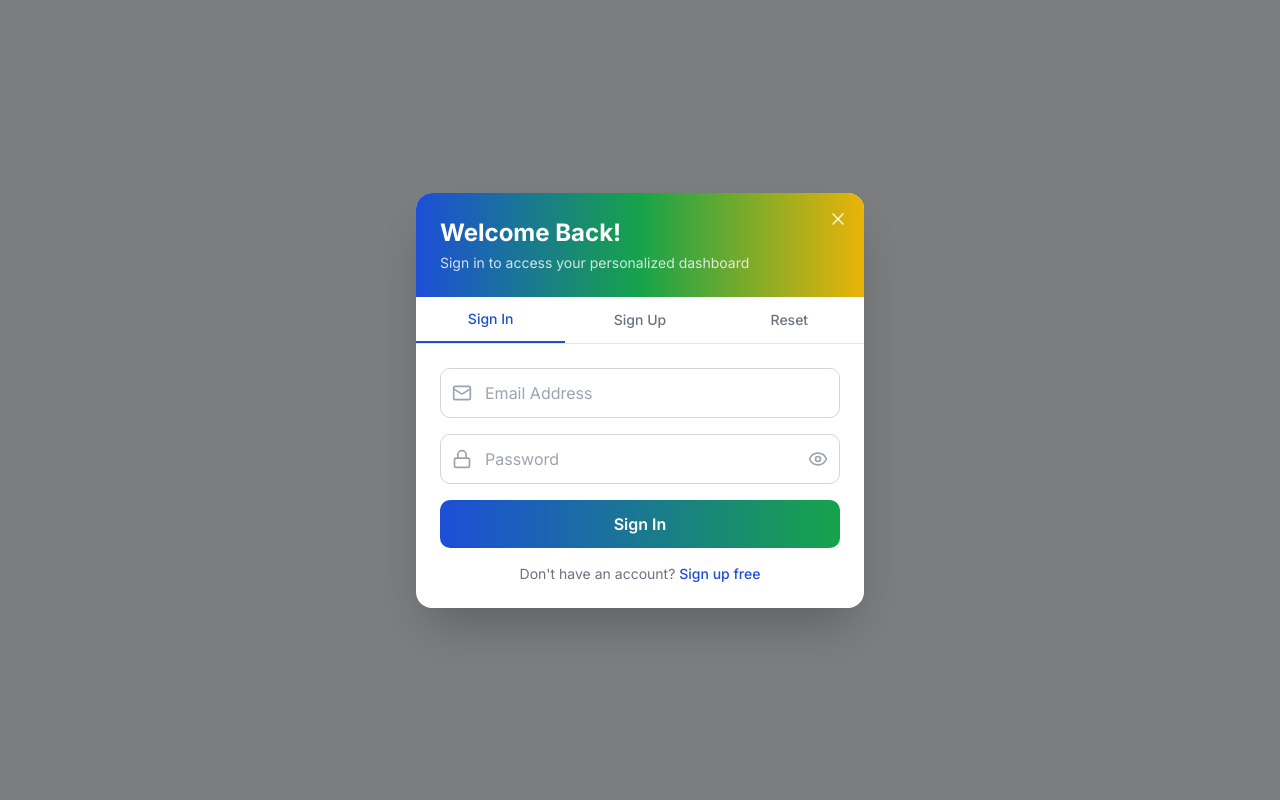
Test: AuthModal MFA flow › switches to MFA step when sign-in requires aal2
This screenshot has width=1280, height=800.
Step 1. Type "LEARNER@EXAMPLE.COM " into the field with placeholder "Email Address" → (640, 392), box [440,368,840,418]
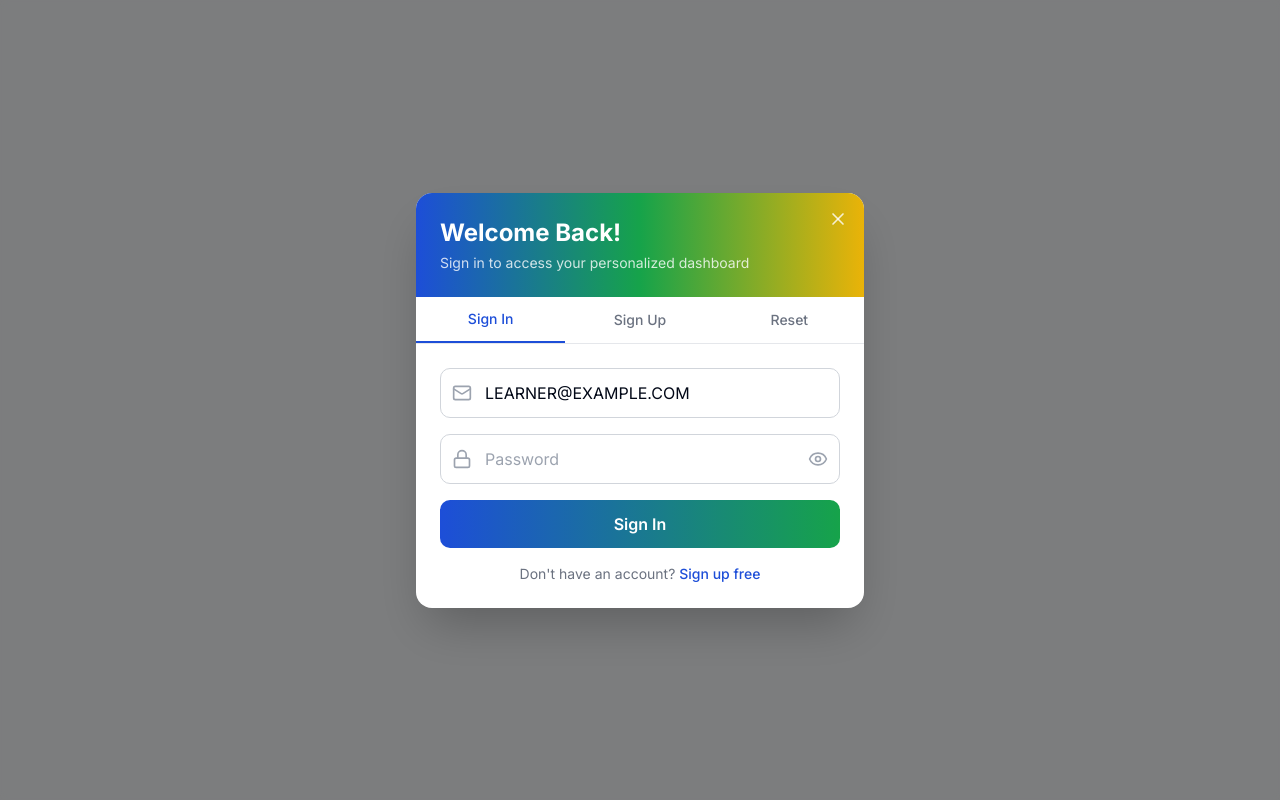
Step 2. Type "password123" into the password field with placeholder "Password" → (640, 458), box [440,434,840,484]
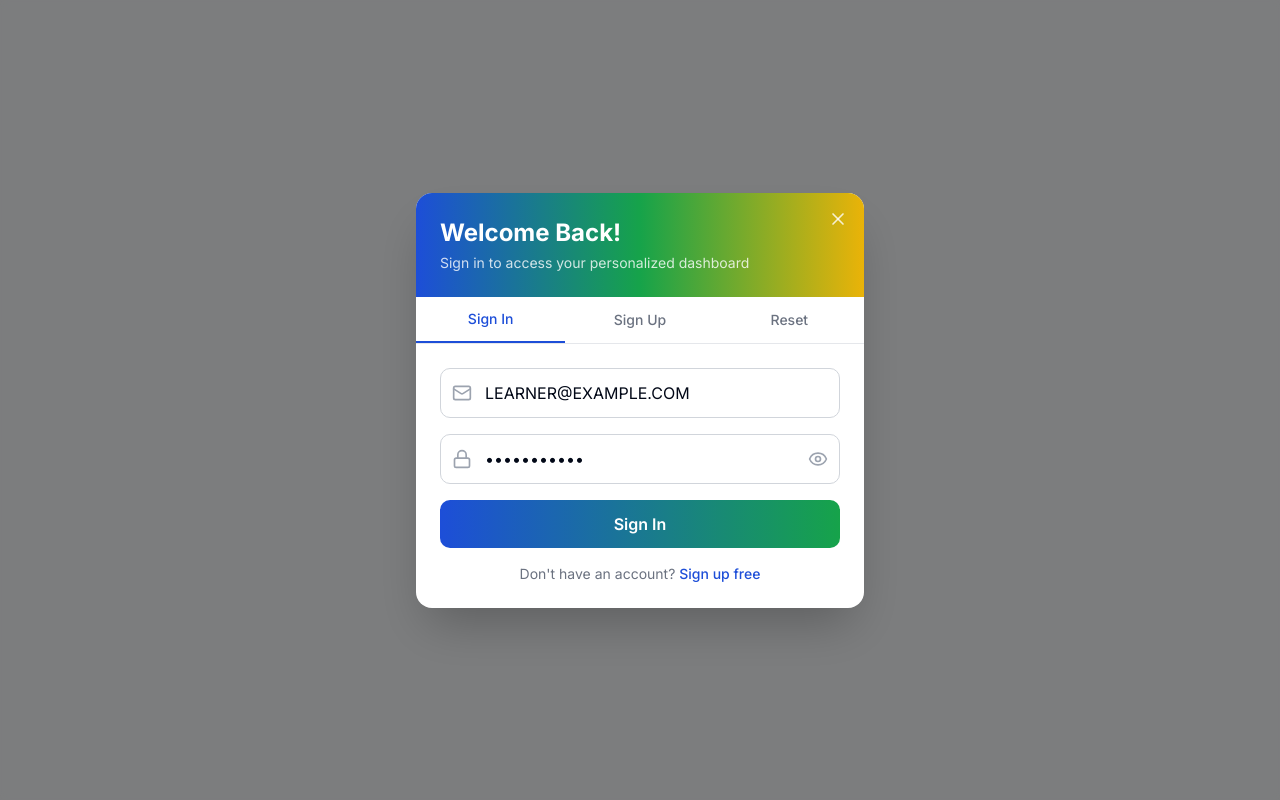
Step 3. Click the 2nd button "Sign In" → (640, 524), box [440,500,840,548]
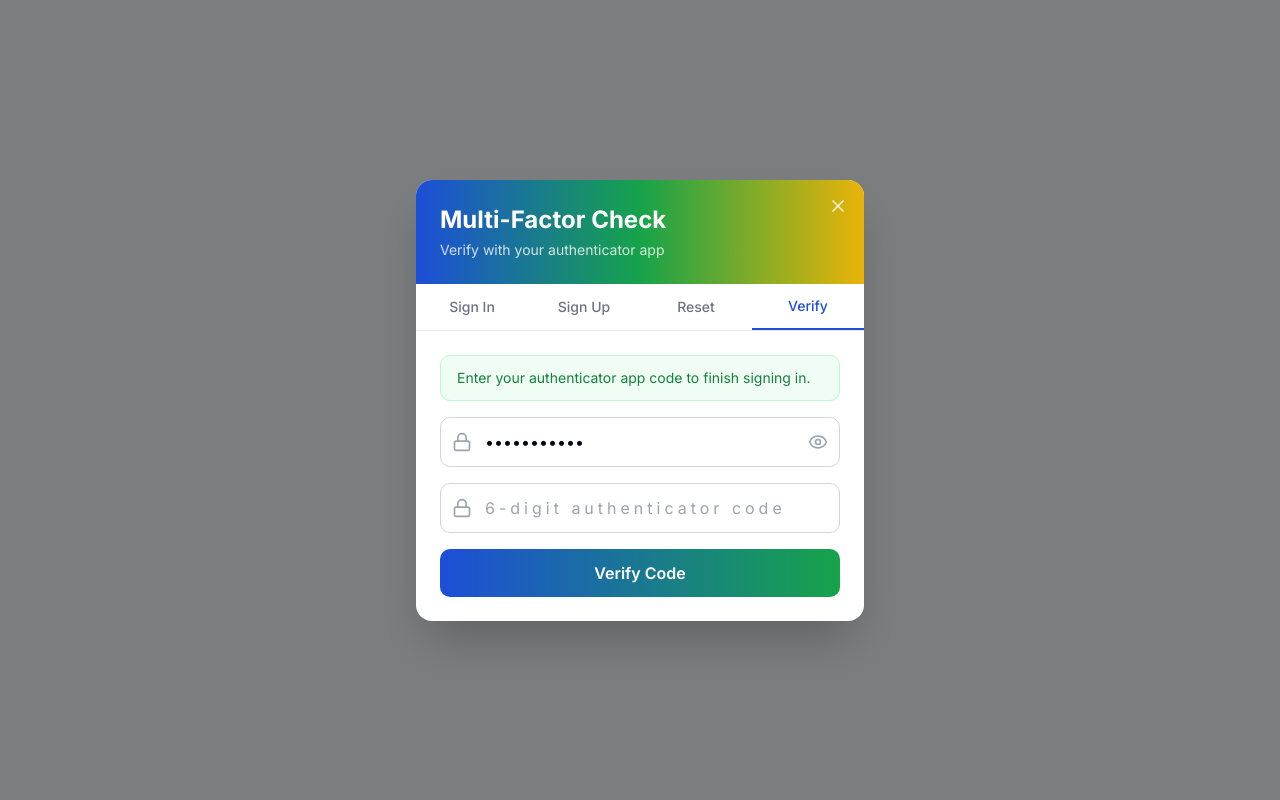
Expected: the heading "Multi-Factor Check" is shown, [440,204,666,234]
Expected: the text "Enter your authenticator app code to finish signing in." is shown, [440,354,840,400]
